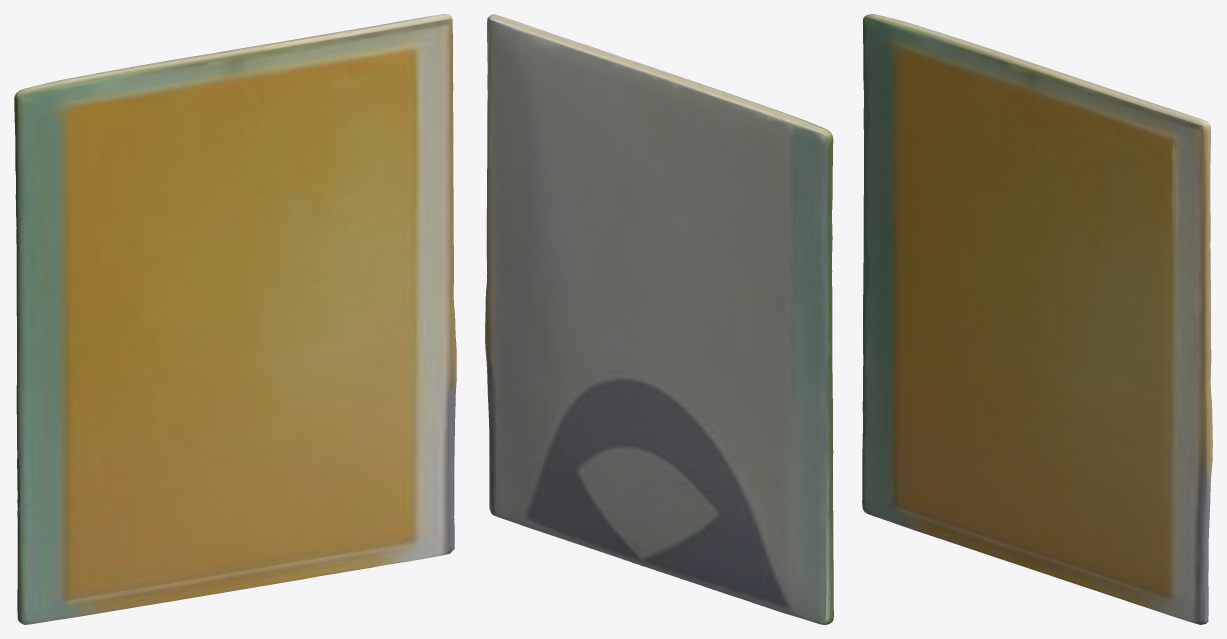
The picture shows the model from 3 angles, left to right: view 1: azimuth 30°, elevation 25°; view 2: azimuth 150°, elevation 25°; view 3: azimuth 330°, elevation 25°; orthographic projection. The views are drawn at different scales.
Parts seen in each view (by area): view 1: world; view 2: world; view 3: world.
Boxes of the visible parts, left/top/right/bottom form: world: left=14, top=14, right=456, bottom=624; world: left=485, top=14, right=833, bottom=624; world: left=862, top=14, right=1212, bottom=624.
Size of the model in its own units: 0.3319 by 0.4193 by 0.0574.
1 material, 1 textured.
